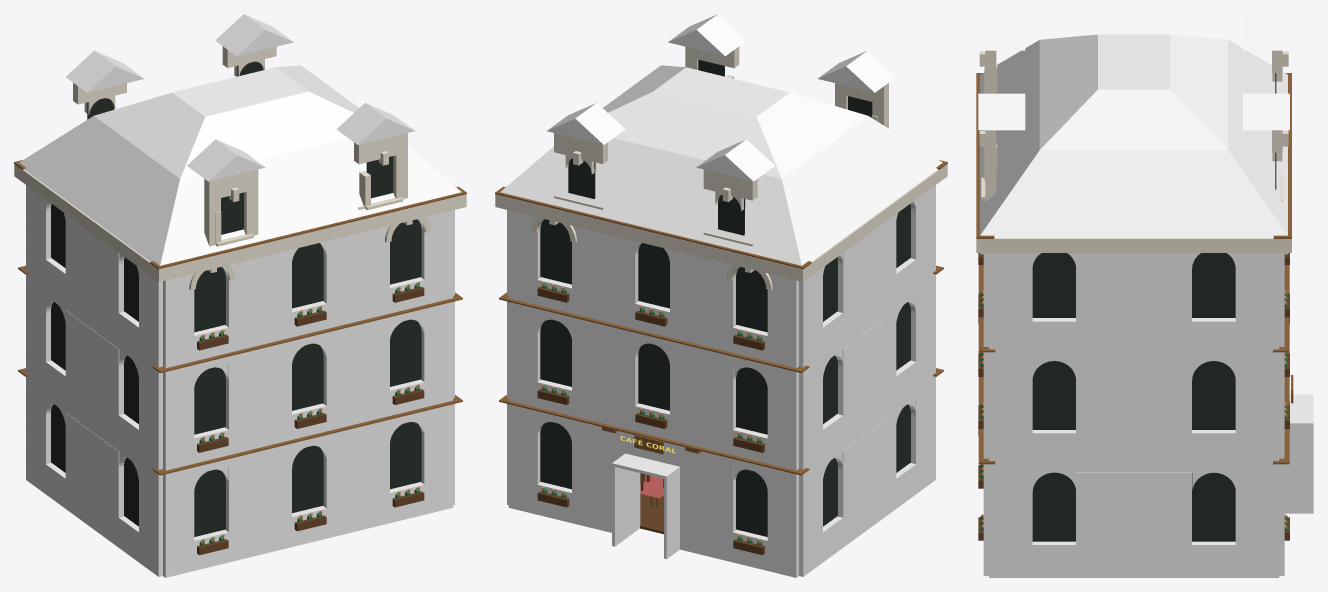
File: gedung-g07-blender-v2.glb
3 views of the same model, side by side, from view 1: azimuth 30°, elevation 25°; view 2: azimuth 150°, elevation 25°; view 3: azimuth 270°, elevation 25° (orthographic). The views are drawn at different scales.
Parts seen in each view (by area): view 1: Cube, DormGable_-2.6_-1, Cube.085, Cube.015, Cube.009, Cube.468, Cube.022, Icosphere; view 2: Cube, DormGable_-2.6_-1, Cube.085, Cube.015, Cube.009, Int_Shell, Cube.468, Cube.022, Icosphere; view 3: Cube.085, DormGable_-2.6_-1, Cube.015, Cube.009, Cube, Int_Shell, Cube.468, Cube.022.
Boxes of the visible parts, x1,y1,x2,y2 form: Cube: (163,210,453,577); DormGable_-2.6_-1: (19,14,461,265); Cube.085: (26,185,454,576); Cube.015: (51,61,421,536); Cube.009: (14,46,466,290); Cube.468: (14,160,466,475); Cube.022: (197,286,424,555); Icosphere: (199,283,419,545); Cube: (508,210,798,577); DormGable_-2.6_-1: (500,14,942,265); Cube.085: (507,185,935,576); Cube.015: (540,59,910,536); Cube.009: (495,46,947,290); Int_Shell: (612,453,679,559); Cube.468: (495,160,947,508); Cube.022: (537,286,764,555); Icosphere: (542,283,762,545); Cube.085: (989,253,1279,577); DormGable_-2.6_-1: (978,14,1289,238); Cube.015: (1032,73,1276,541); Cube.009: (976,50,1291,254); Cube: (983,253,1284,575); Int_Shell: (1284,394,1313,513); Cube.468: (976,73,1293,464); Cube.022: (978,253,1289,540).
Bounding box in the file's own units: 10.72 × 13.55 × 9.3.
16 materials, 1 textured.
